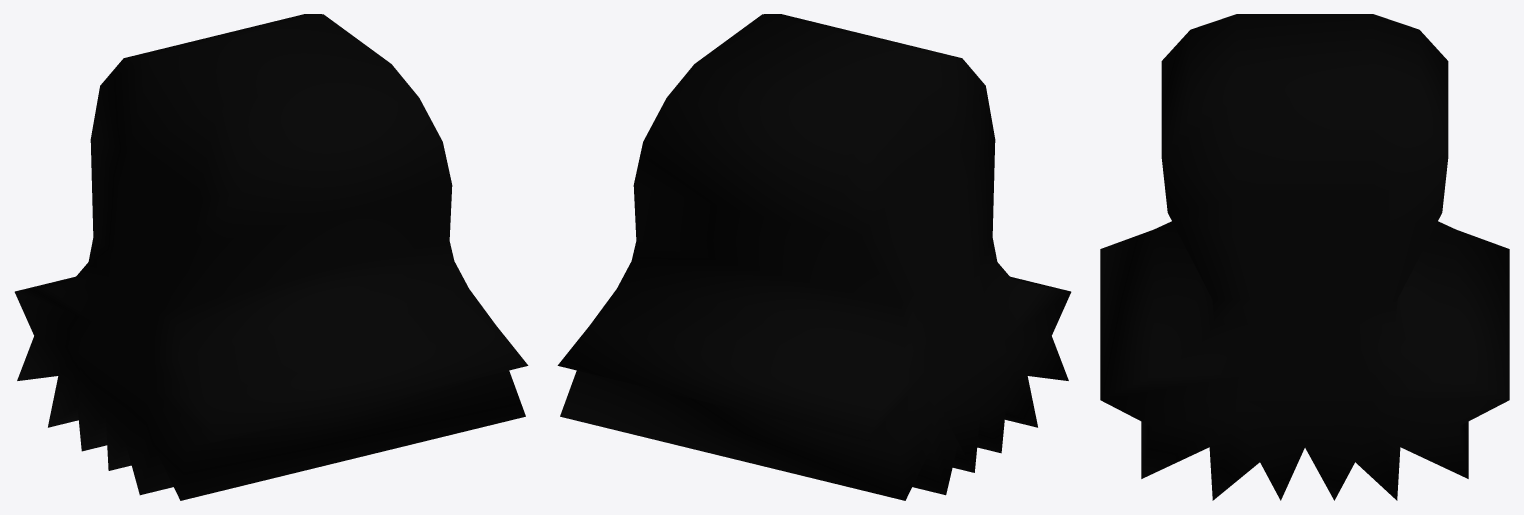
Rendered from Theverybadguy.fbx.
3 renders of one model, left to right at view 1: azimuth 30°, elevation 25°; view 2: azimuth 150°, elevation 25°; view 3: azimuth 270°, elevation 25°, orthographic.
Visible parts, largest first — view 1: Char_Nemesis; view 2: Char_Nemesis; view 3: Char_Nemesis.
Boxes of the visible parts, x1=… form: Char_Nemesis: x1=14, y1=14, x2=528, y2=500; Char_Nemesis: x1=557, y1=14, x2=1071, y2=500; Char_Nemesis: x1=1100, y1=14, x2=1509, y2=500.
Bounding box in the file's own units: 1.04 × 1.01 × 1.04.
